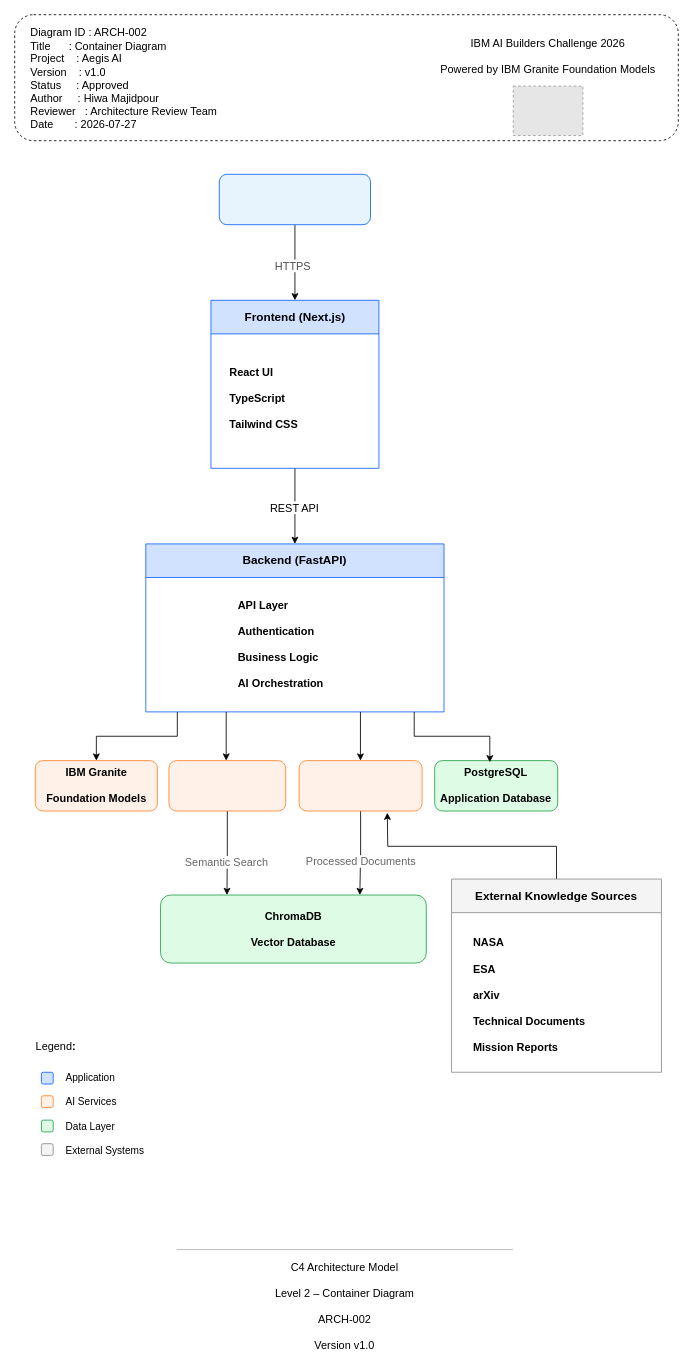
Some shapes in this 693 by 1368 pixel diagram are drawn without their labels. Grey dashed boxes stand in for pictures. The centre of each missing label's shape, as x and y in pixels:
"End User" belongs at (294,199).
"IBM Docling Document Processing" belongs at (360,785).
"LangChain AI Orchestration" belongs at (227,785).
